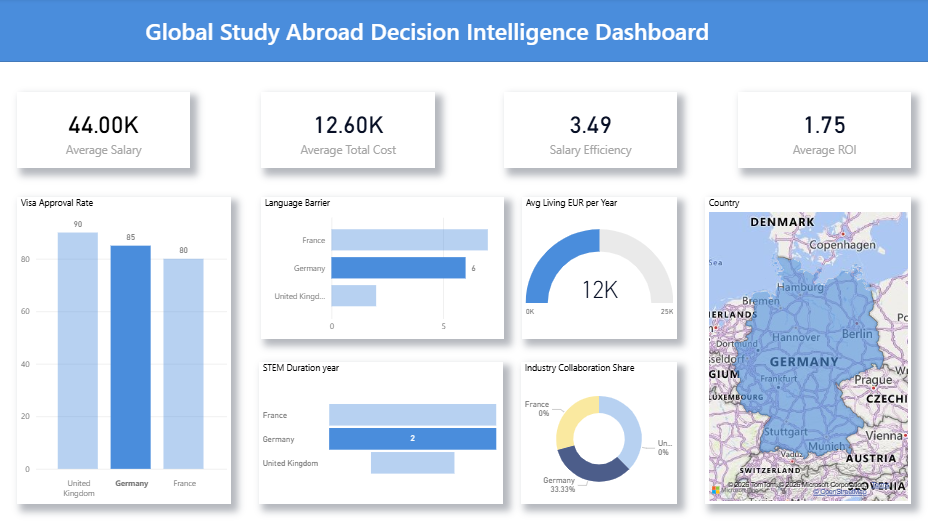

What the dashboard file says about the page in this screenshot:
{"tool":"powerbi","page":{"name":"Page 1","canvas":[1280,720],"ordinal":0},"visuals":[{"type":"clusteredColumnChart","title":"Visa Approval Rate","fields":{"Category":["STEM_Masters_Raw_Data.Country"],"Y":["Sum(STEM_Masters_Raw_Data.Visa_Approval_Rate_Percent)"]},"box":[25,273.3,293.9,423.2],"z":0},{"type":"card","fields":{"Values":["STEM_Masters_Raw_Data.Average ROI"]},"box":[1016.7,130,238.3,105],"z":1000},{"type":"card","fields":{"Values":["STEM_Masters_Raw_Data.Average Salary"]},"box":[25,130,238.3,105],"z":2000},{"type":"card","fields":{"Values":["STEM_Masters_Raw_Data.Average Total Cost"]},"box":[360,130,240,105],"z":3000},{"type":"card","fields":{"Values":["STEM_Masters_Raw_Data.Salary Efficiency"]},"box":[695,130,238.3,105],"z":4000},{"type":"clusteredBarChart","title":"Language Barrier","fields":{"Category":["STEM_Masters_Raw_Data.Country"],"Y":["Sum(STEM_Masters_Raw_Data.Language_Barrier_1_to_10)"]},"box":[360,273.3,335,195.4],"z":5000},{"type":"filledMap","fields":{"Category":["STEM_Masters_Raw_Data.Country"]},"box":[971.7,273.9,283.5,422.5],"z":6000},{"type":"funnel","title":"STEM Duration year","fields":{"Category":["STEM_Masters_Raw_Data.Country"],"Y":["Sum(STEM_Masters_Raw_Data.Duration_Years)"]},"box":[358.5,501.1,336.5,195.4],"z":7000},{"type":"donutChart","title":"Industry Collaboration Share","fields":{"Y":["Sum(STEM_Masters_Raw_Data.Industry_Collaboration_1_to_10)"],"Category":["STEM_Masters_Raw_Data.Country"]},"box":[718.5,501,214.7,195.4],"z":8000},{"type":"gauge","title":"Avg Living EUR per Year","fields":{"Y":["Sum(STEM_Masters_Raw_Data.Avg_Living_EUR_per_Year)"]},"box":[719.8,273.9,213.3,195.4],"z":9000},{"type":"shape","box":[0,0,1279.8,88.2],"z":10000},{"type":"textbox","box":[99.9,17.6,987.4,54.4],"z":11000}]}

Visuals, with their boxes in screenshot pixels (x1, y1, x2, y2), scaled from the page's 1280x720 canvas onto the 928x521 screenshot:
"Visa Approval Rate" clusteredColumnChart: left=18, top=198, right=231, bottom=504
card - STEM_Masters_Raw_Data.Average ROI: left=737, top=94, right=910, bottom=170
card - STEM_Masters_Raw_Data.Average Salary: left=18, top=94, right=191, bottom=170
card - STEM_Masters_Raw_Data.Average Total Cost: left=261, top=94, right=435, bottom=170
card - STEM_Masters_Raw_Data.Salary Efficiency: left=504, top=94, right=677, bottom=170
"Language Barrier" clusteredBarChart: left=261, top=198, right=504, bottom=339
filledMap - STEM_Masters_Raw_Data.Country: left=704, top=198, right=910, bottom=504
"STEM Duration year" funnel: left=260, top=363, right=504, bottom=504
"Industry Collaboration Share" donutChart: left=521, top=363, right=677, bottom=504
"Avg Living EUR per Year" gauge: left=522, top=198, right=676, bottom=340
shape: left=0, top=0, right=927, bottom=64
textbox: left=72, top=13, right=788, bottom=52
